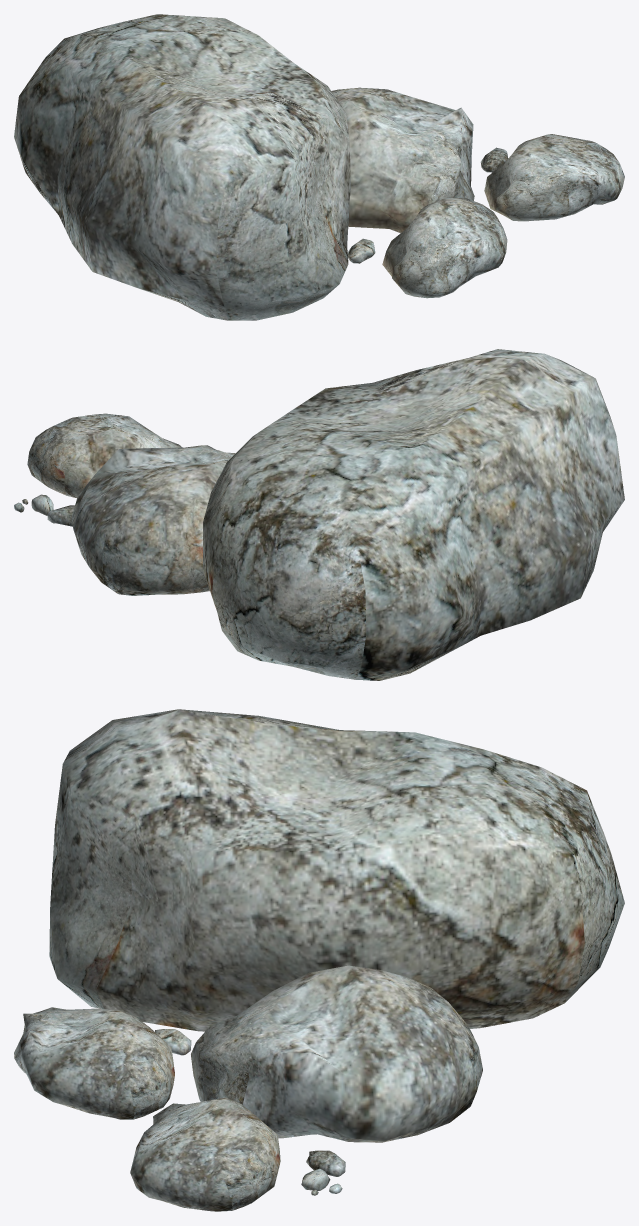
File: rock.fbx
3 views of the same model, one above another, from view 1: azimuth 30°, elevation 25°; view 2: azimuth 150°, elevation 25°; view 3: azimuth 270°, elevation 25° (orthographic). The views are drawn at different scales.
Visible parts, largest first — view 1: Rock; view 2: Rock; view 3: Rock.
Part boxes in pixels (left/top/right/bottom): Rock: left=14, top=14, right=624, bottom=320; Rock: left=14, top=349, right=624, bottom=680; Rock: left=14, top=709, right=624, bottom=1211.
Bounding box in the file's own units: 2.43 × 0.934 × 1.96.
Materials: 1 (1 with a texture image).
